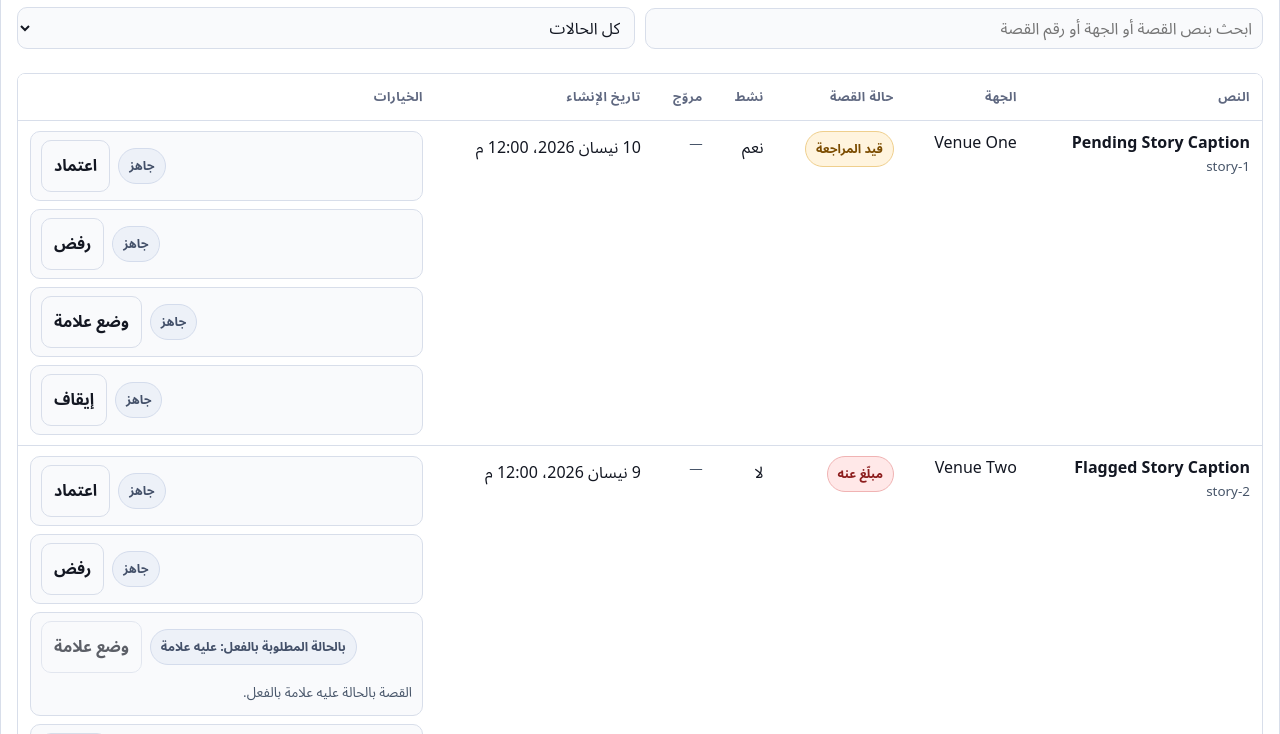
content management shells › shows successful story moderation completion
The width and height of the screenshot is (1280, 734).
(page scrolled)
// Click pause button (opens dialog)
Click the 1st button "إيقاف". click: (74, 400)
box: x1=41 y1=374 x2=107 y2=426
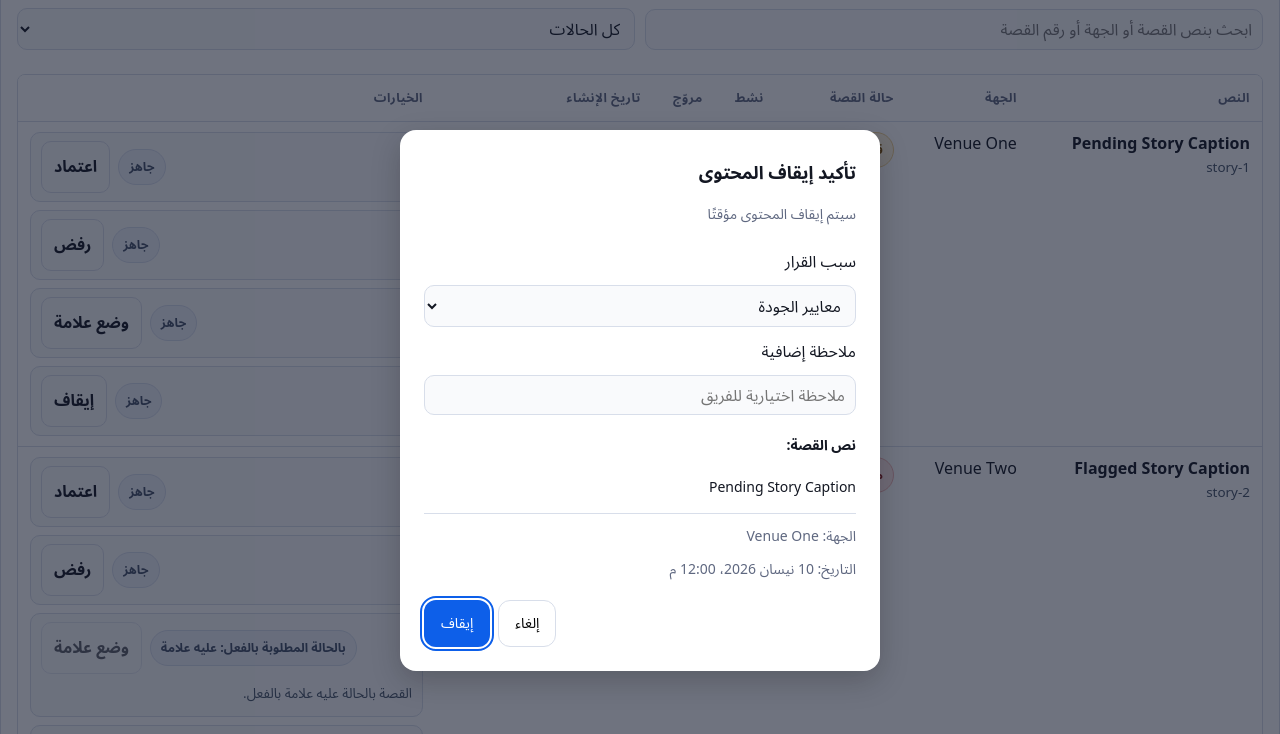
Expected: the dialog is shown, x1=400 y1=130 x2=880 y2=670
// Click confirm button in dialog (إيقاف for pause action) - last button is the confirm button
Click the button "إيقاف". click: (457, 623)
box: x1=424 y1=600 x2=490 y2=646
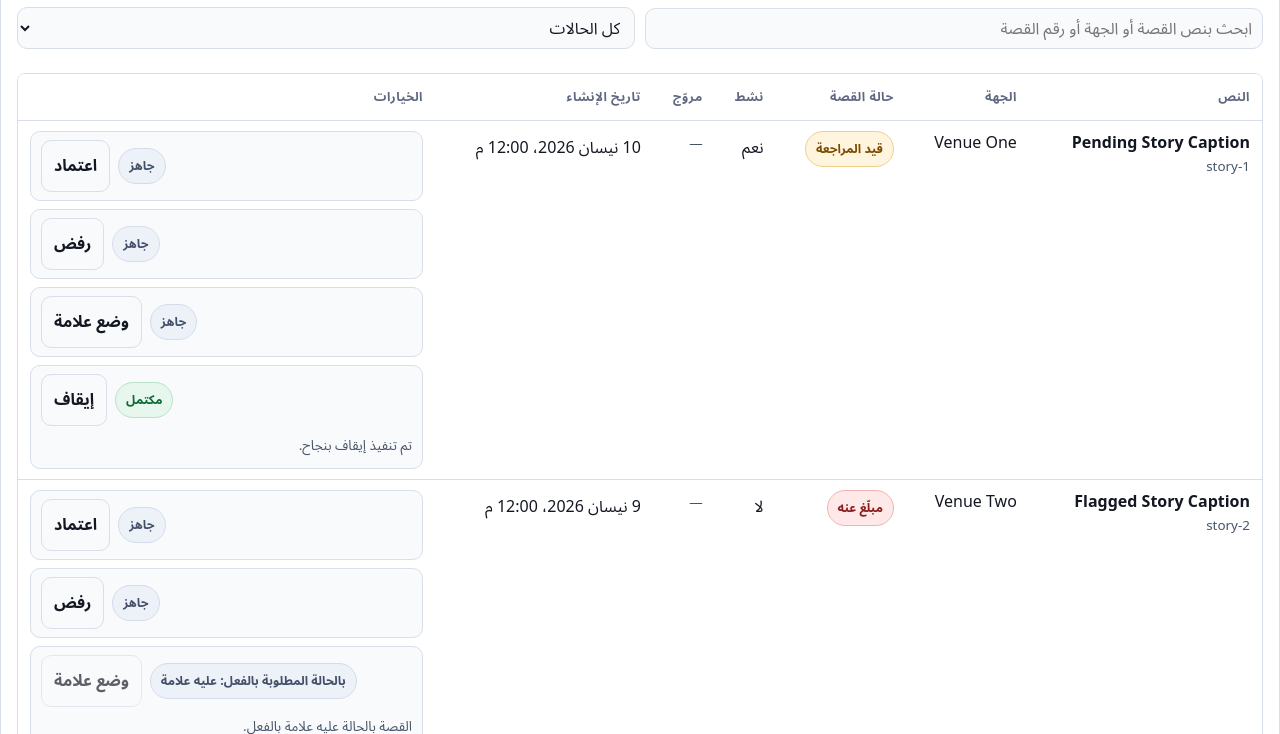
Expected: the text "تم تنفيذ إيقاف بنجاح." is shown, x1=299 y1=436 x2=412 y2=454
